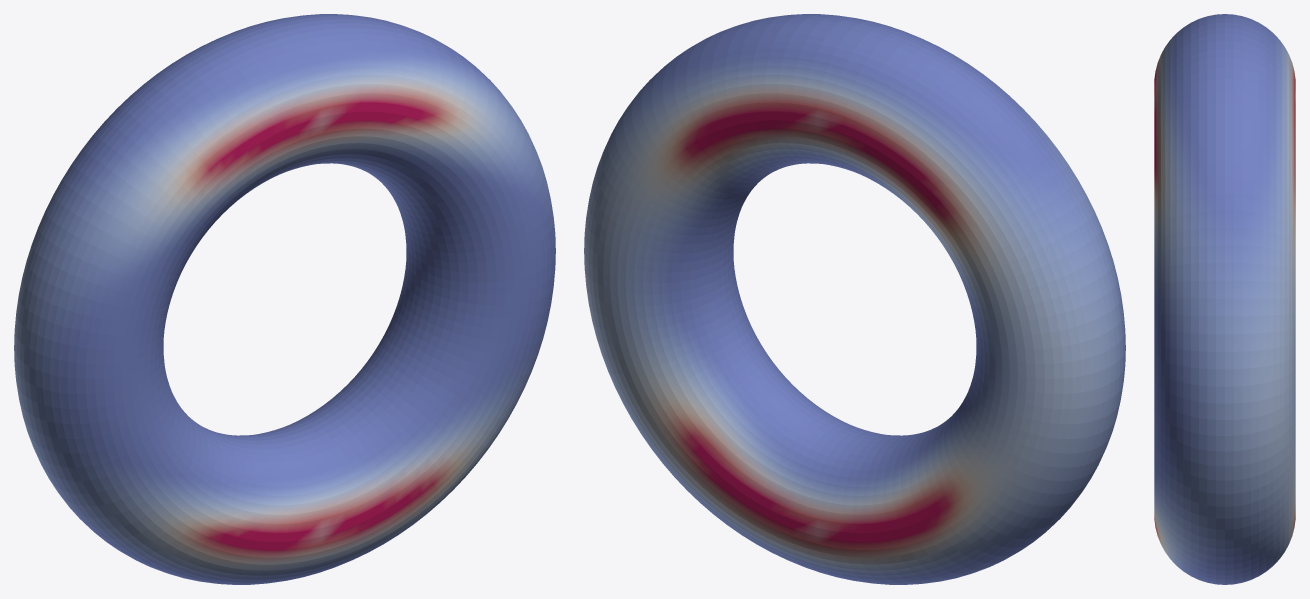
3 renders of one model, left to right at view 1: azimuth 30°, elevation 25°; view 2: azimuth 150°, elevation 25°; view 3: azimuth 270°, elevation 25°, orthographic. The views are drawn at different scales.
Parts seen in each view (by area): view 1: world; view 2: world; view 3: world.
Boxes of the visible parts, x1,y1,x2,y2 form: world: (14, 14, 555, 584); world: (584, 14, 1125, 584); world: (1154, 14, 1295, 584).
Bounding box in the file's own units: 17.73 × 17.73 × 4.39.
